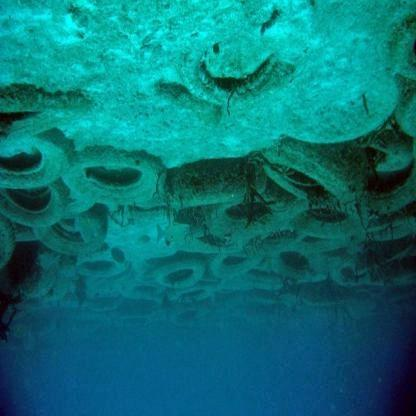tire: (175, 30, 289, 110), (63, 149, 162, 208), (270, 133, 346, 205), (362, 127, 416, 216), (212, 202, 302, 247), (0, 179, 68, 236), (1, 125, 64, 186), (290, 200, 366, 242), (37, 212, 109, 254), (70, 252, 134, 284), (327, 250, 380, 288), (214, 242, 268, 276), (151, 257, 205, 291), (271, 247, 318, 284)
